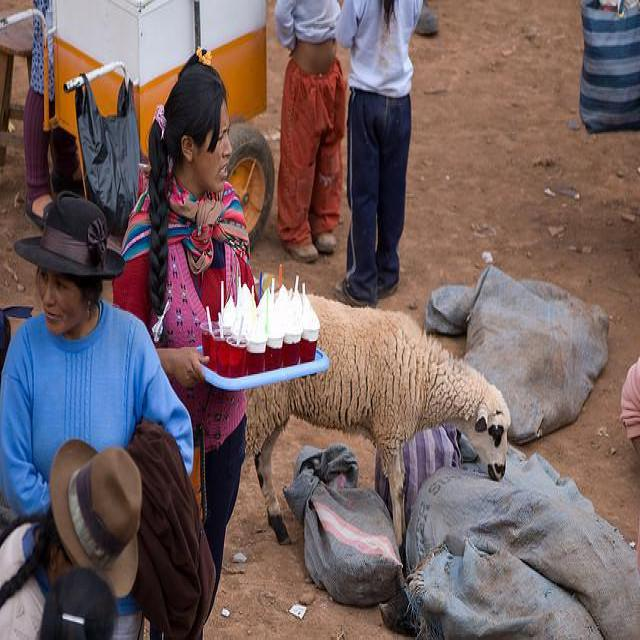Sheep: (245, 299, 511, 556)
